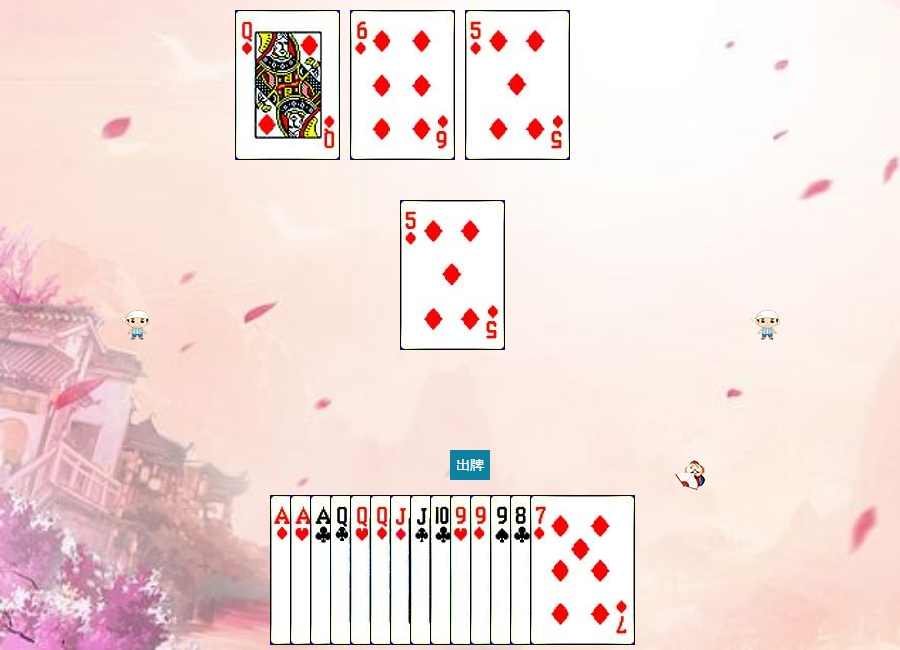10~2: (430, 495, 535, 645)
11~1: (390, 495, 495, 645)
11~2: (410, 495, 515, 645)
12~1: (235, 10, 340, 160), (370, 495, 475, 645)
12~2: (330, 495, 435, 645)
12~3: (350, 495, 455, 645)
14~1: (270, 495, 375, 645)
14~2: (310, 495, 415, 645)
14~3: (290, 495, 395, 645)
5~1: (465, 10, 570, 160), (400, 200, 505, 350)
6~1: (350, 10, 455, 160)
7~1: (530, 495, 635, 645)
8~2: (510, 495, 615, 645)
9~1: (470, 495, 575, 645)
9~3: (450, 495, 555, 645)
9~4: (490, 495, 595, 645)
